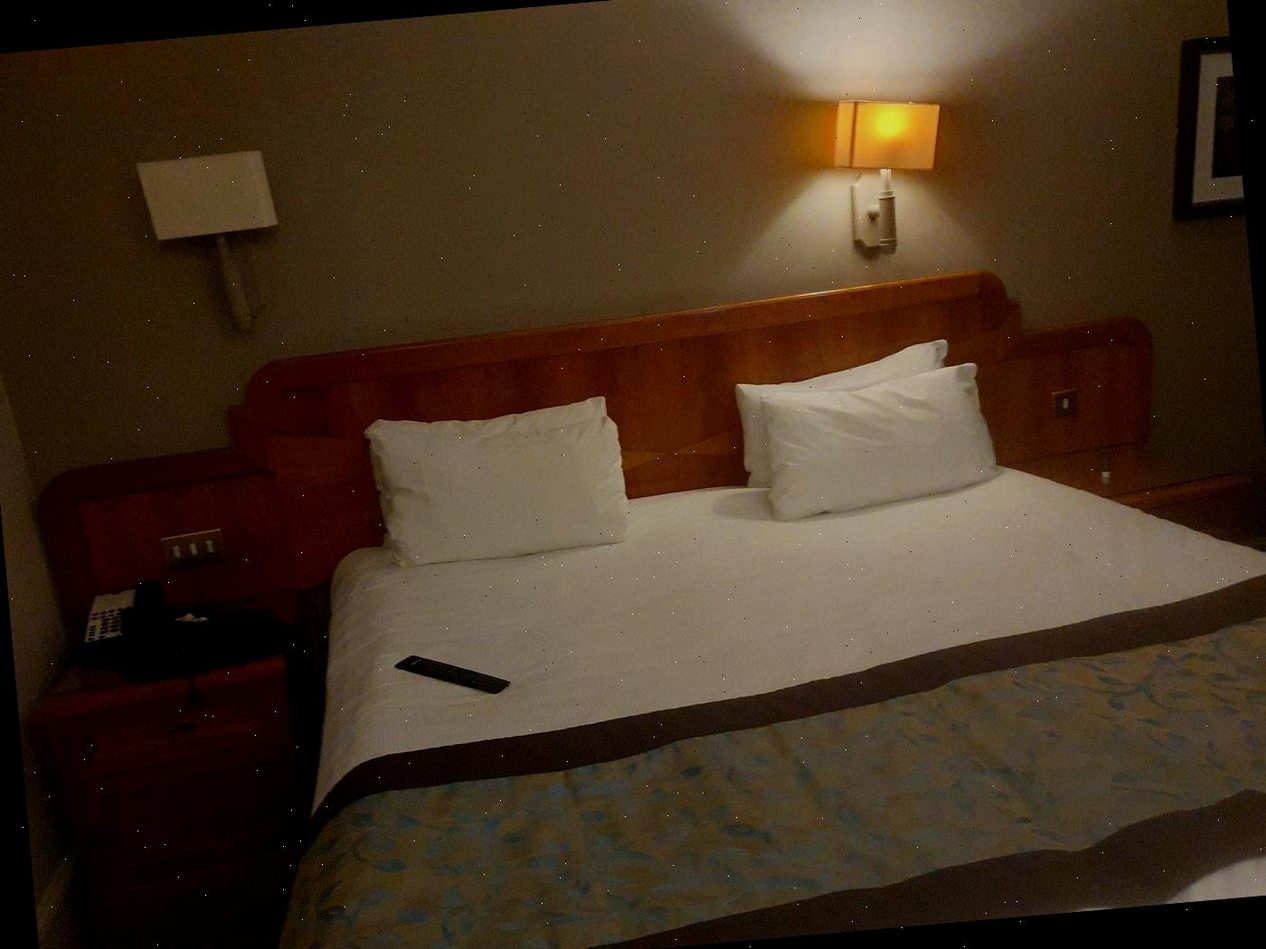clean_bed: (253, 285, 1266, 949)
lamp: (125, 132, 290, 360), (793, 85, 969, 282)
organised_pillow: (356, 330, 1012, 579)
